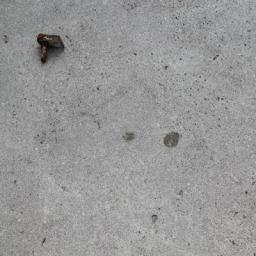FOD: (36, 31, 71, 68)
